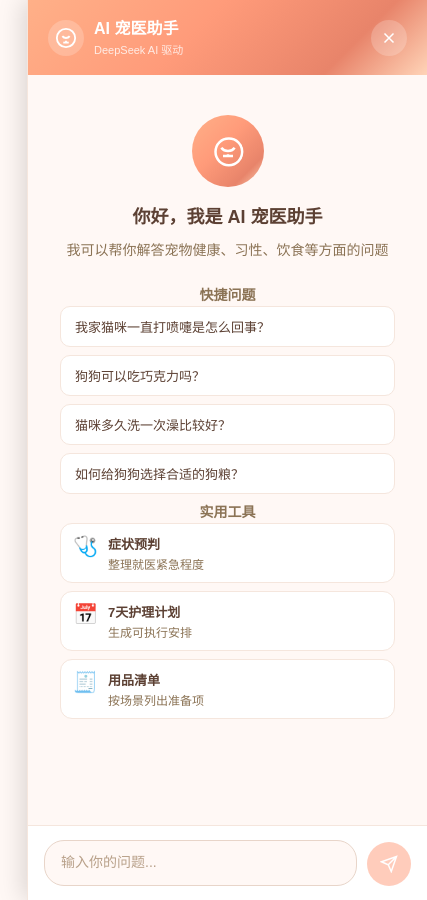
Test: AIPetDoctorChat - 模拟 API 测试 › 点击快捷问题按钮，自动发送并回复
Click the button "狗狗可以吃巧克力吗？" at (140, 376), box [60, 355, 395, 396]
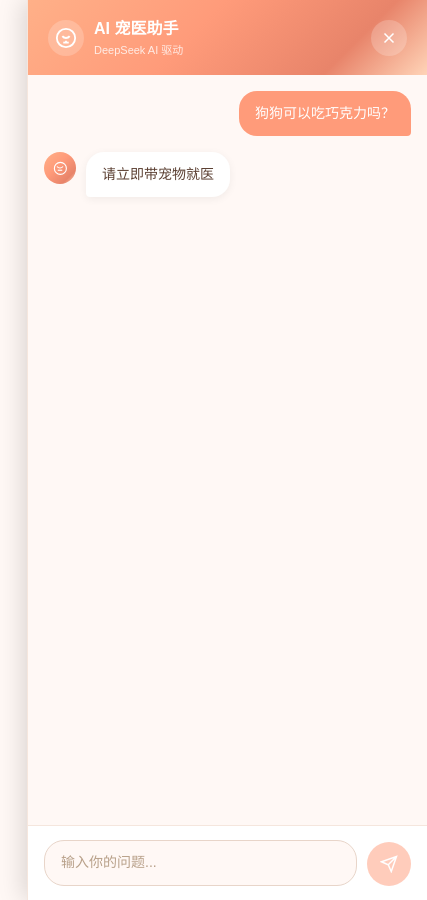
Expected: the text "请立即带宠物就医" is shown, [86, 152, 230, 197]
